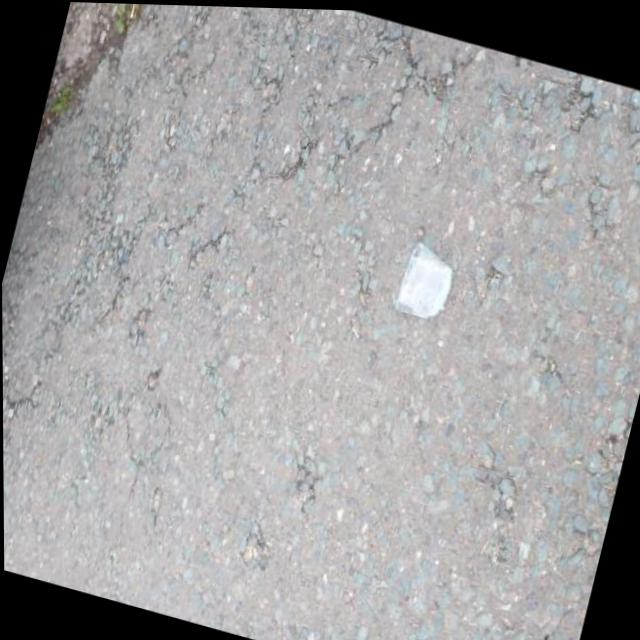plastic: (394, 236, 459, 322)
